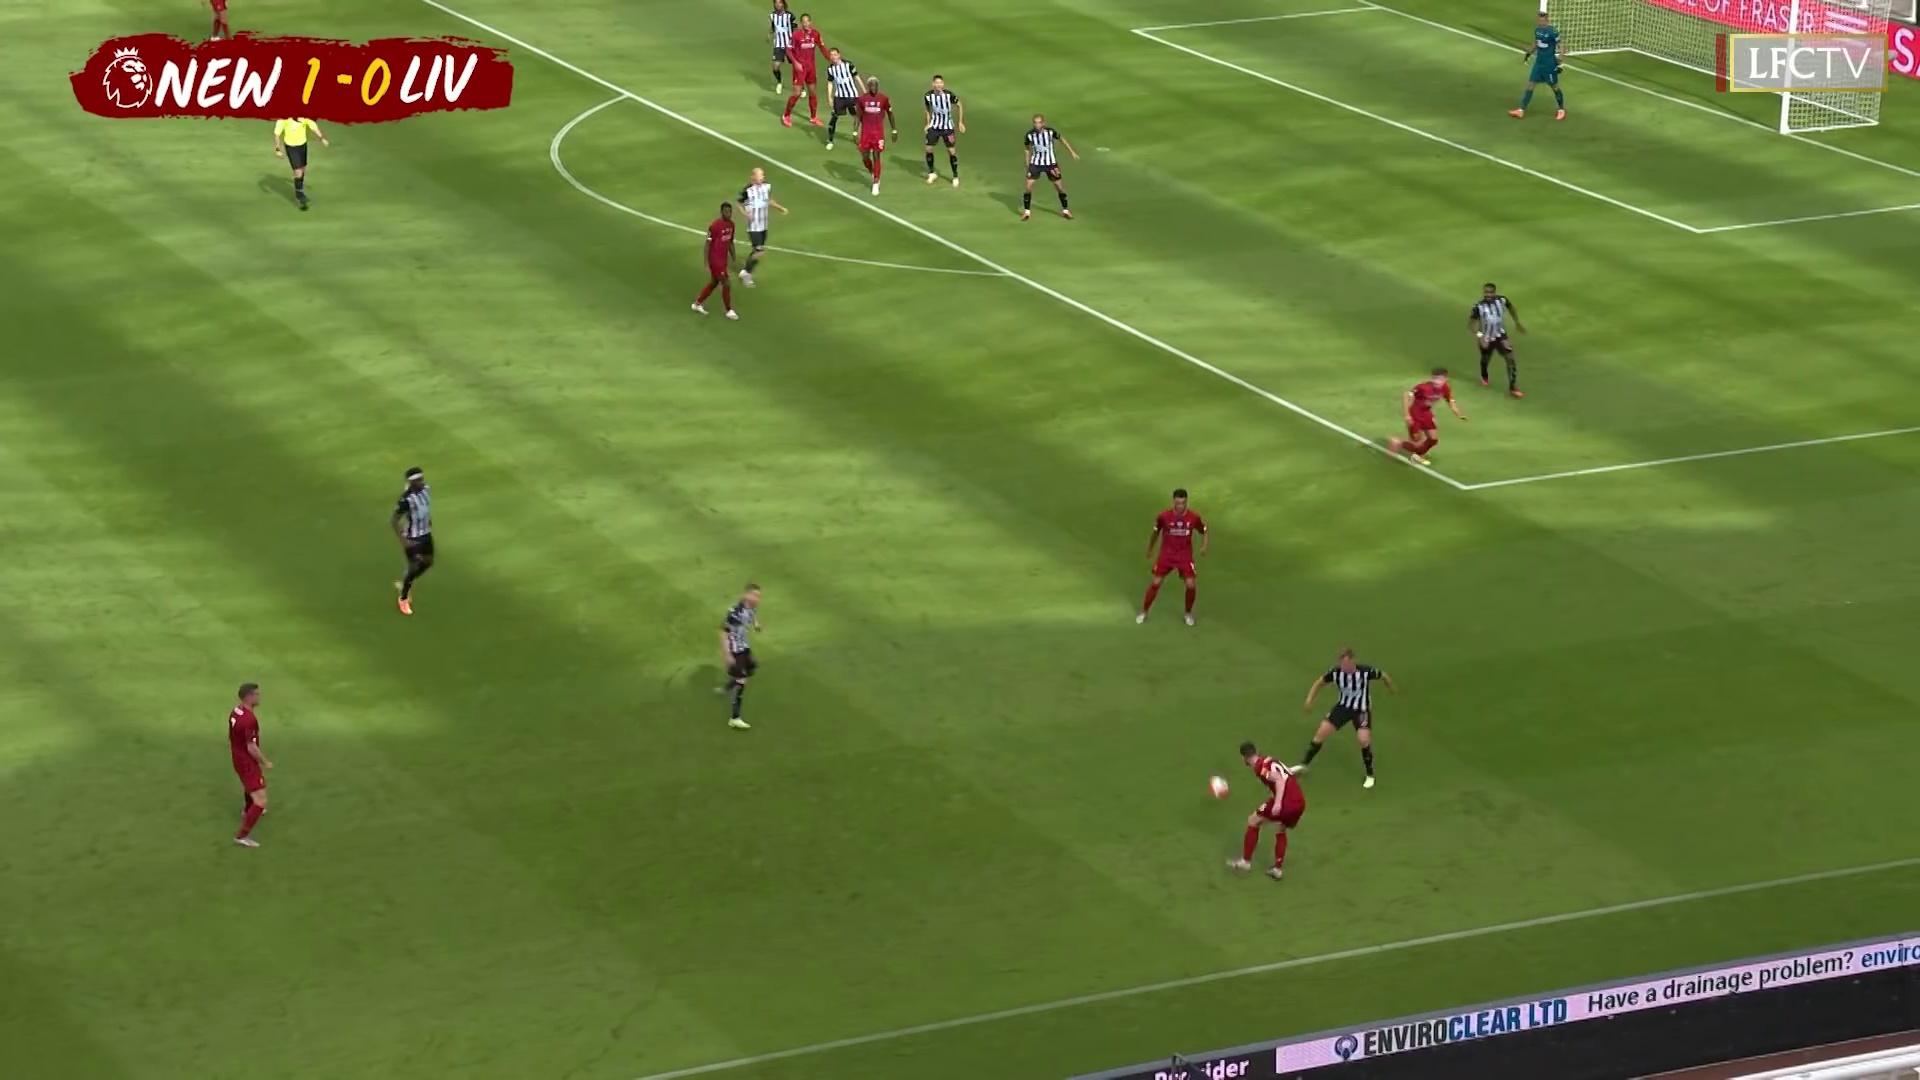ball: (1205, 773, 1233, 806)
goalkeeper: (1506, 10, 1570, 123)
player: (1287, 643, 1404, 791), (1222, 740, 1309, 885), (1132, 484, 1212, 633), (224, 677, 278, 853), (1386, 363, 1472, 467), (711, 578, 765, 733), (1466, 278, 1531, 402), (778, 12, 843, 133), (388, 462, 438, 619), (1016, 110, 1084, 224), (732, 165, 794, 286), (688, 198, 741, 324), (850, 74, 900, 197), (919, 71, 970, 191), (822, 44, 877, 154), (761, 0, 808, 101), (198, 0, 245, 44)
referee: (272, 116, 333, 213)
